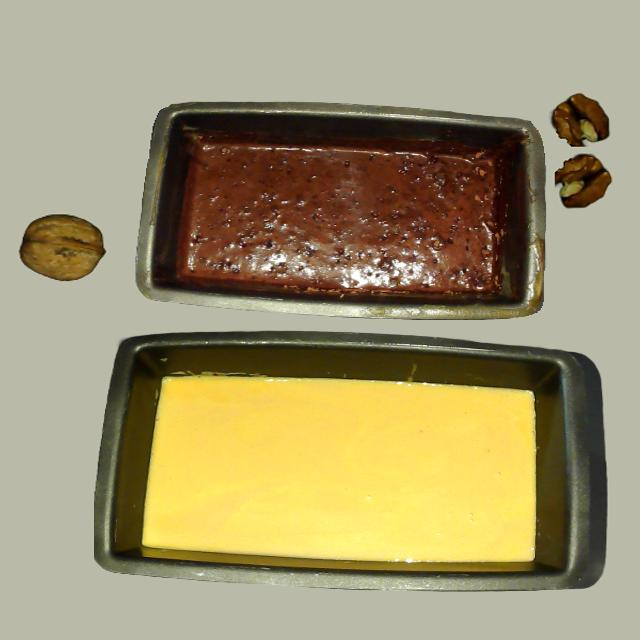Walnut: (18, 214, 103, 280)
